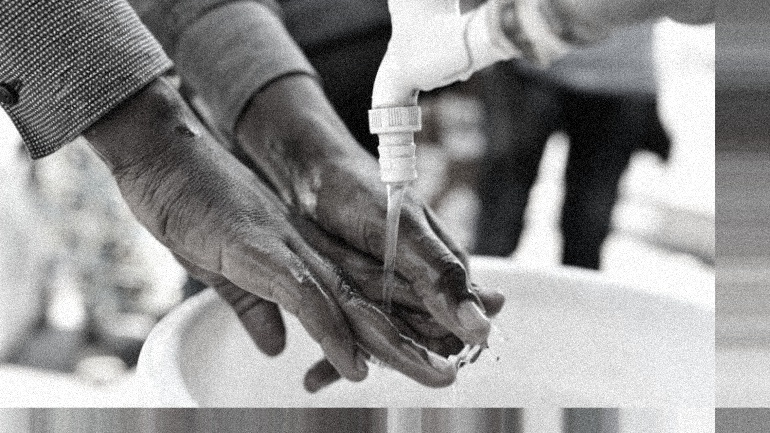washing hand: (89, 1, 545, 396)
